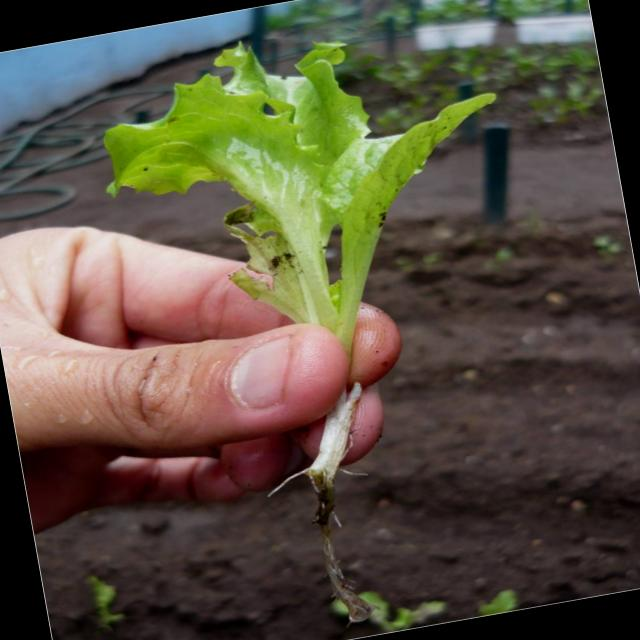verde: (104, 41, 494, 352), (296, 384, 370, 621)
